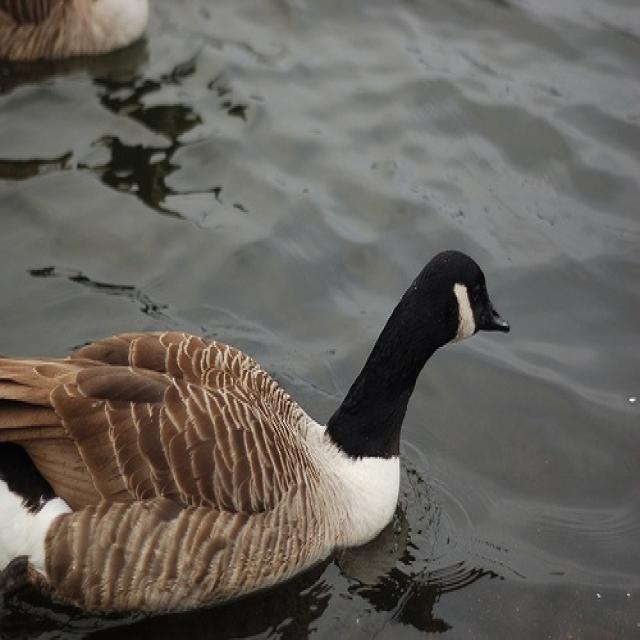bird: (0, 248, 509, 618), (0, 0, 150, 60)
